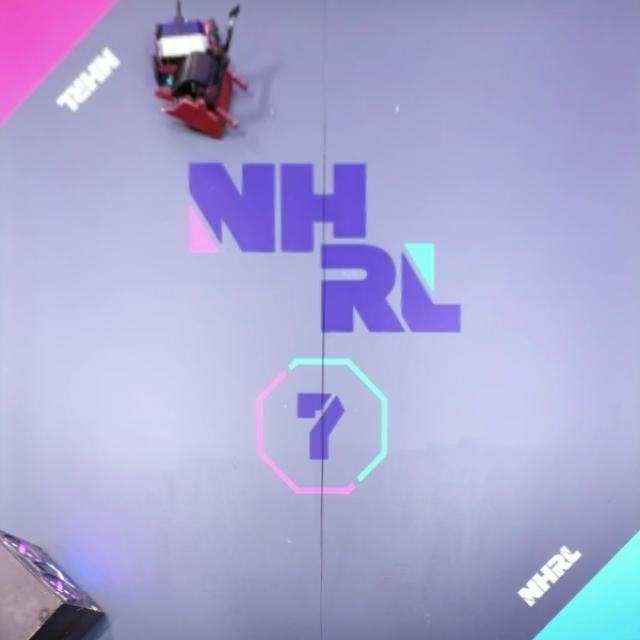housebot: (0, 527, 107, 640)
robot: (154, 4, 252, 139), (153, 1, 227, 85)
